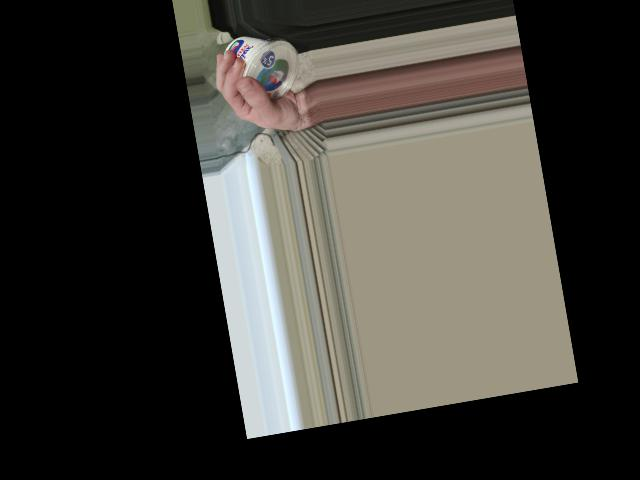cotage: (218, 27, 307, 105)
